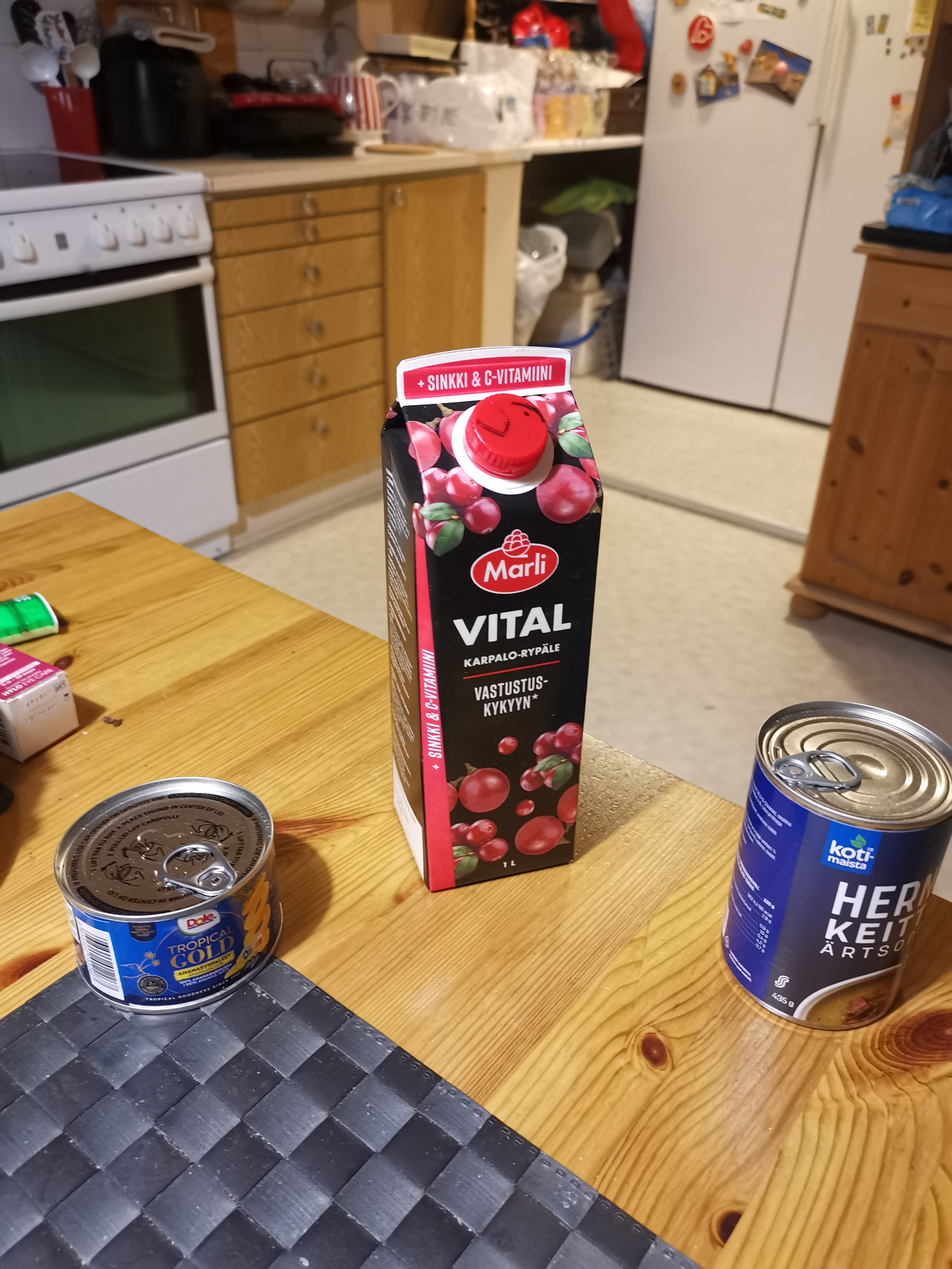Dryckeskartong: (378, 343, 606, 894)
Konservburk: (718, 698, 952, 1034), (50, 774, 287, 1018)
